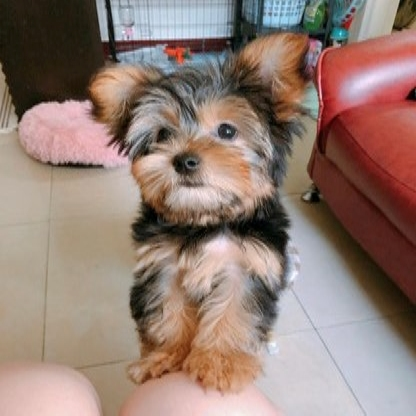yorkshire: (85, 32, 318, 393)
